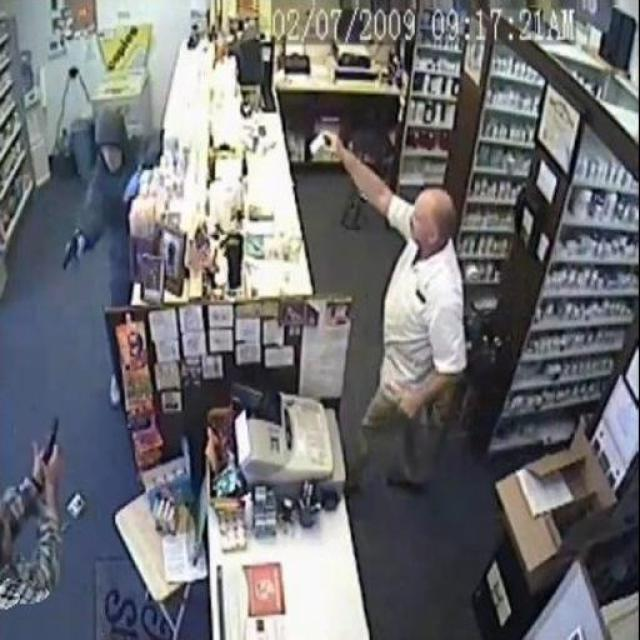pistol: (37, 417, 60, 466), (60, 232, 80, 272)
